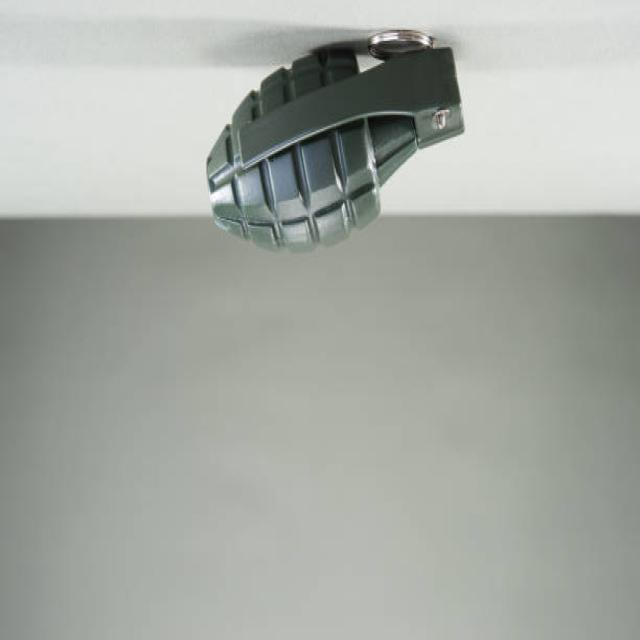grenade: (205, 20, 474, 264)
